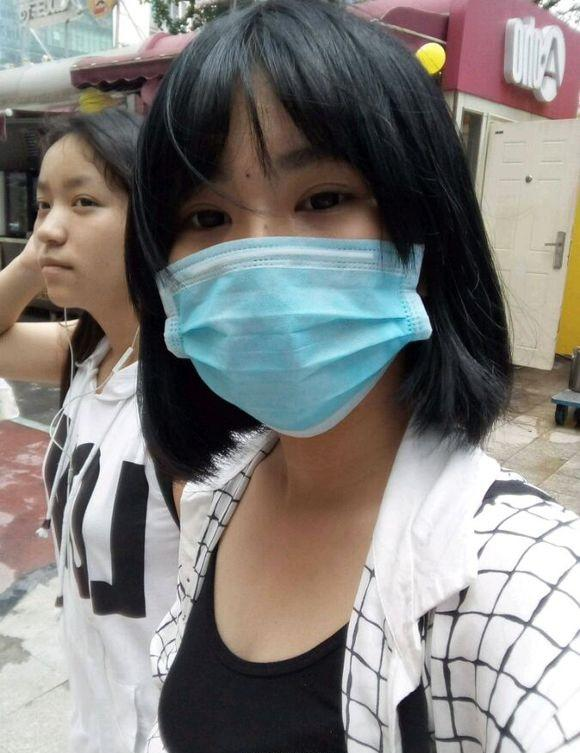NONE: (28, 164, 145, 308)
OK: (142, 141, 423, 422)
